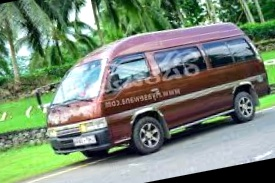van: (26, 6, 275, 173)
